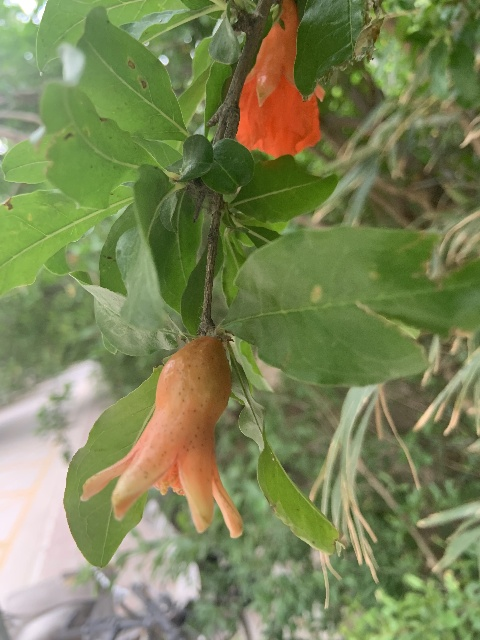early-fruit: (81, 334, 244, 536)
flower: (237, 0, 323, 158)
